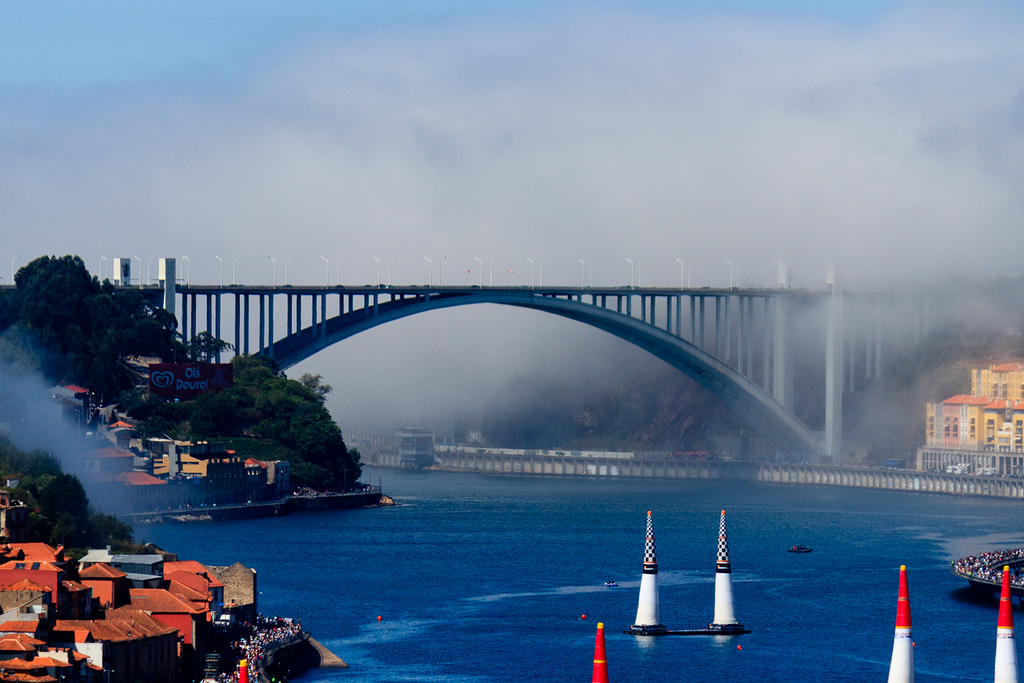arrabida: (100, 257, 967, 464)
